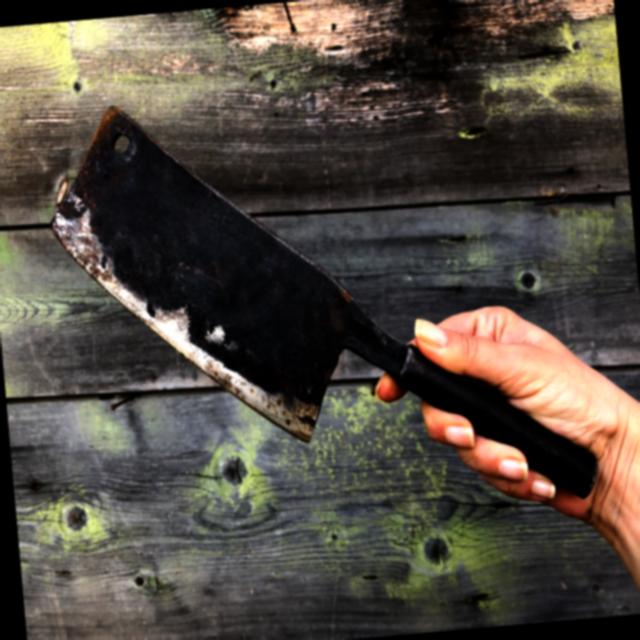cleaver: (40, 62, 640, 559)
